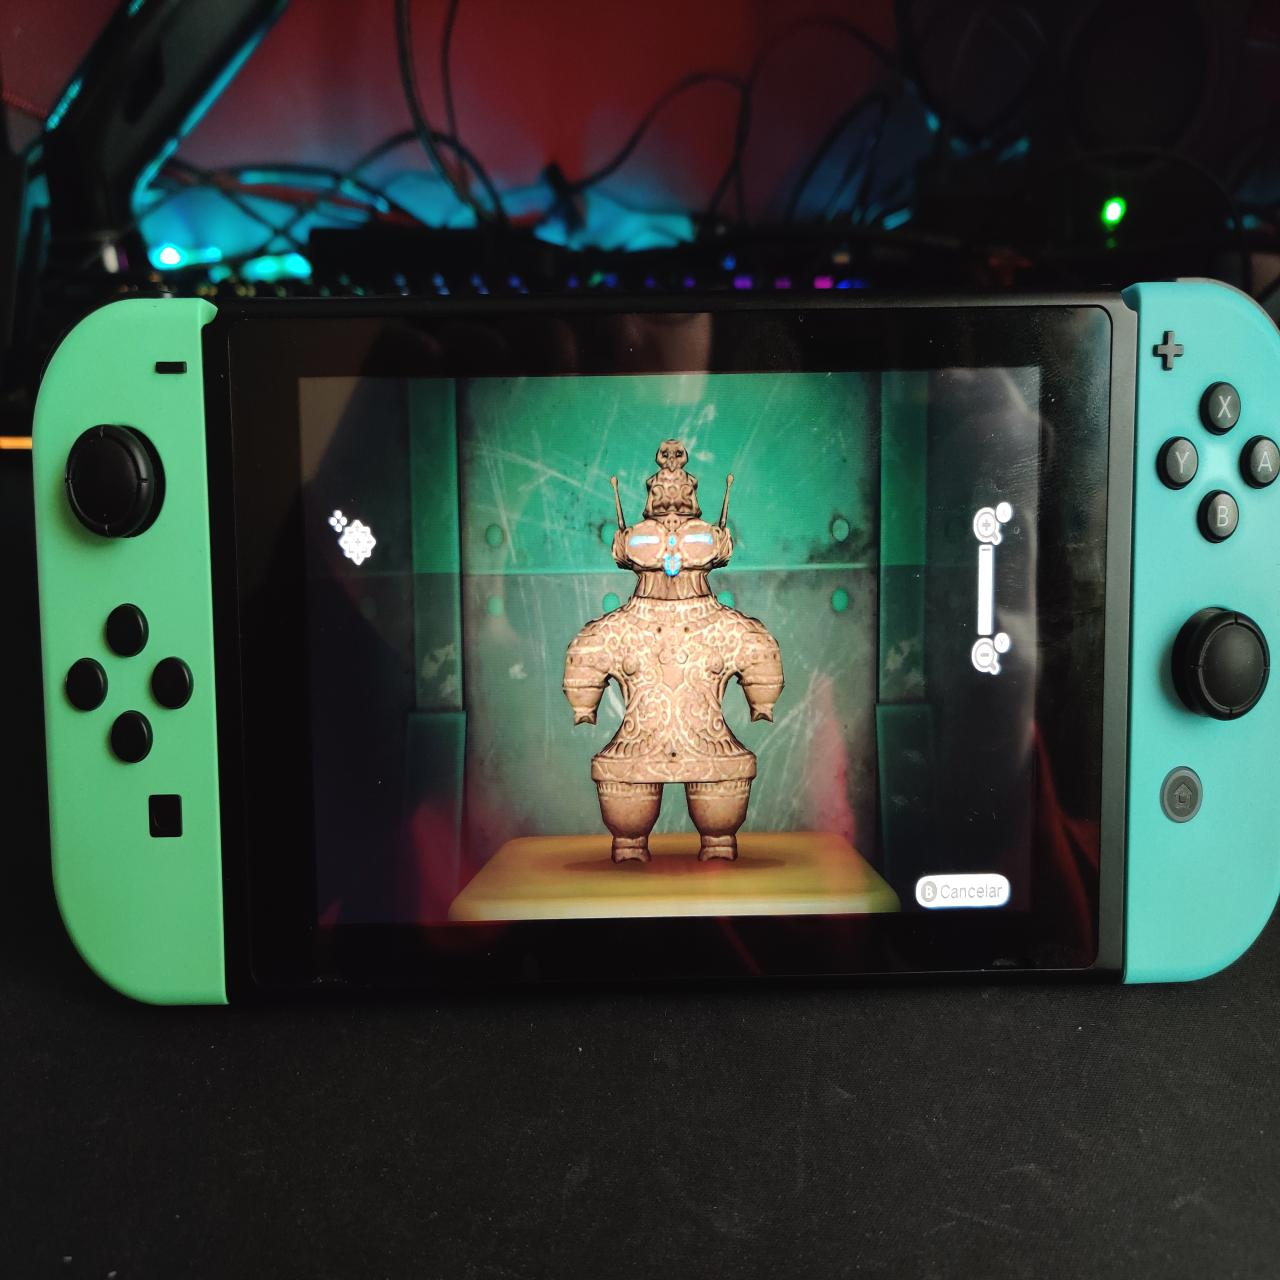DoguuFake: (556, 425, 792, 876)
